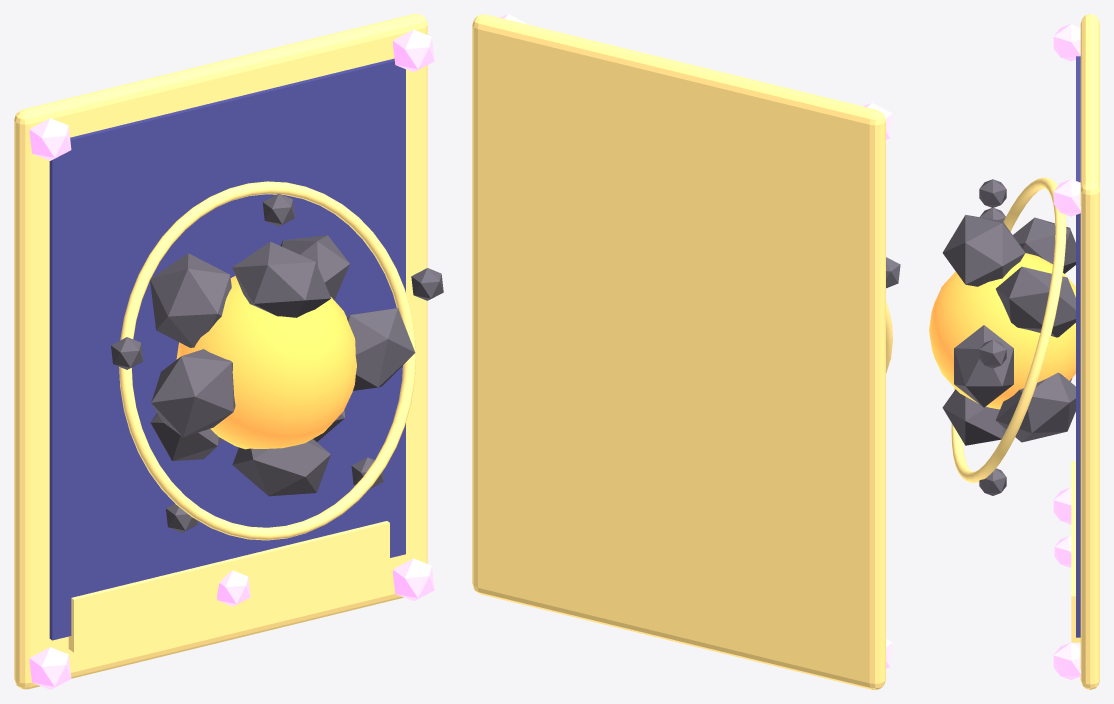
Rendered from Worldbreaker.glb.
3 views of the same model, side by side, from view 1: azimuth 30°, elevation 25°; view 2: azimuth 150°, elevation 25°; view 3: azimuth 270°, elevation 25° (orthographic). The views are drawn at different scales.
Visible parts, largest first — view 1: Cube.005, Cube.004, Sphere.002, Cube.006, Torus, Icosphere.014, Icosphere.013, Icosphere.012, Icosphere.016, Icosphere.010, Icosphere.011, Icosphere.015 (+8 smaller); view 2: Cube.004; view 3: Cube.004, Sphere.002, Torus, Icosphere.012, Icosphere.011, Icosphere.017, Icosphere.010, Cube.005, Icosphere.016, Icosphere.013, Cube.006, Icosphere.007 (+7 smaller).
Part boxes in pixels (<box>): Cube.005: <box>49,58,405,640</box>; Cube.004: <box>14,14,427,689</box>; Sphere.002: <box>176,276,356,449</box>; Cube.006: <box>68,521,389,652</box>; Torus: <box>119,181,415,540</box>; Icosphere.014: <box>151,349,235,437</box>; Icosphere.013: <box>150,253,231,347</box>; Icosphere.012: <box>232,241,331,317</box>; Icosphere.016: <box>232,439,330,496</box>; Icosphere.010: <box>347,308,415,390</box>; Icosphere.011: <box>280,235,349,300</box>; Icosphere.015: <box>150,413,222,460</box>; Cube.004: <box>472,14,885,689</box>; Cube.004: <box>1080,14,1099,689</box>; Sphere.002: <box>929,253,1075,409</box>; Torus: <box>951,177,1066,482</box>; Icosphere.012: <box>942,215,1025,286</box>; Icosphere.011: <box>996,266,1075,337</box>; Icosphere.017: <box>995,372,1075,442</box>; Icosphere.010: <box>954,325,1013,407</box>; Cube.005: <box>1076,56,1080,637</box>; Icosphere.016: <box>942,389,1006,445</box>; Icosphere.013: <box>1013,217,1075,273</box>; Cube.006: <box>1071,461,1080,642</box>; Icosphere.007: <box>1053,642,1080,679</box>.
Bounding box in the file's own units: 2.6 × 3.5 × 1.07.
